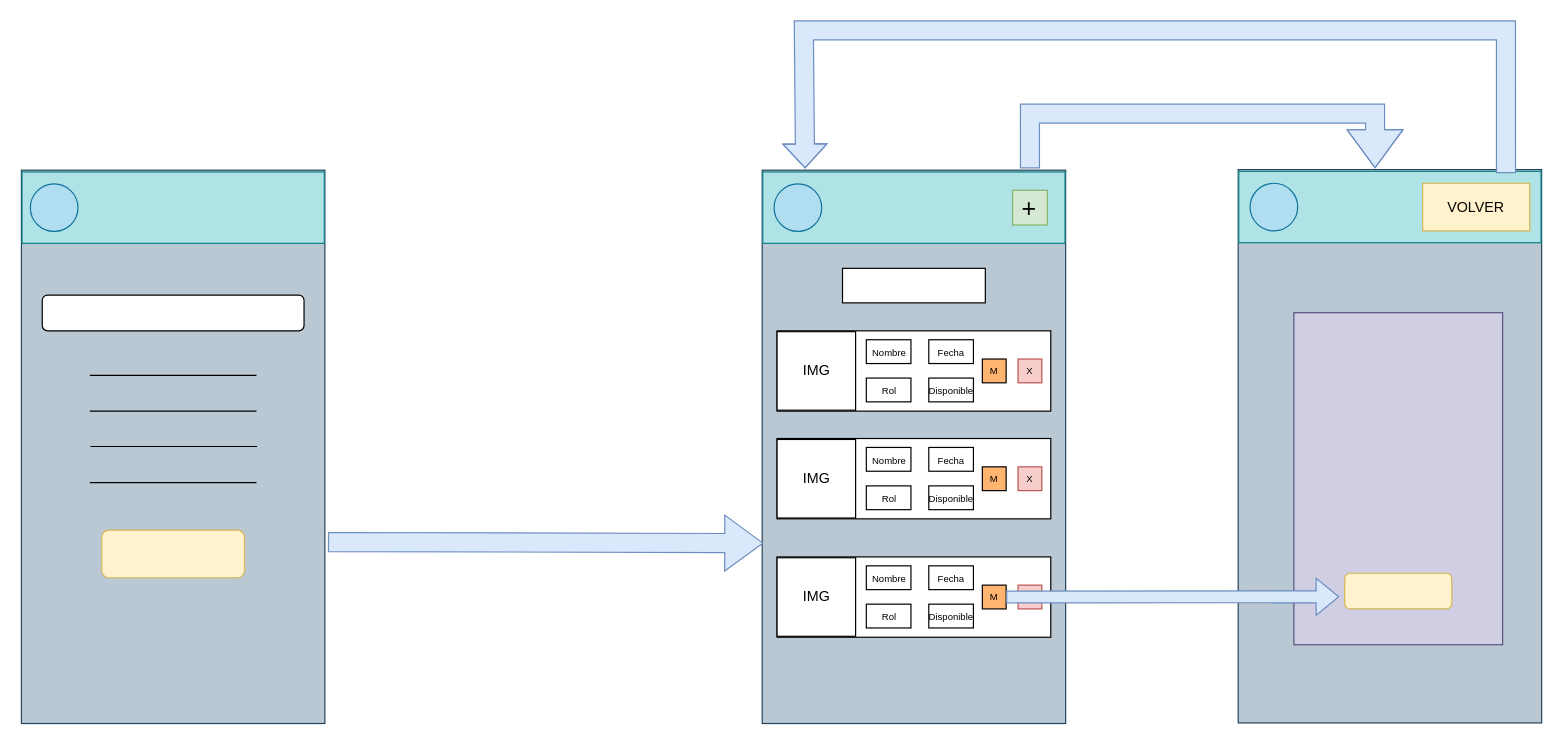
Some shapes in this 1562 by 745 pixel diagram are drawn without their labels. Each missing label, with the centre of its shape:
"BUSCAR" goes at point (913, 285).
"CONSULTAR JUEGOS" goes at point (173, 553).
"CREAR" goes at point (1398, 590).
"FORMULARIO" goes at point (1398, 478).
"TÍTULO" goes at point (172, 312).
